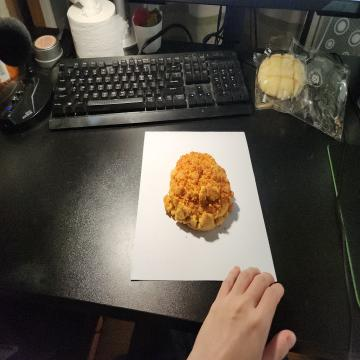soboru_bread: (165, 150, 234, 234)
